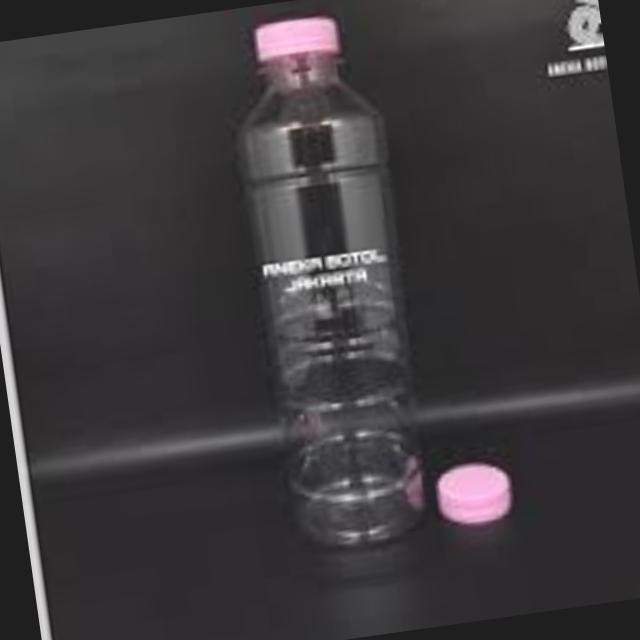trash: (206, 0, 455, 567)
